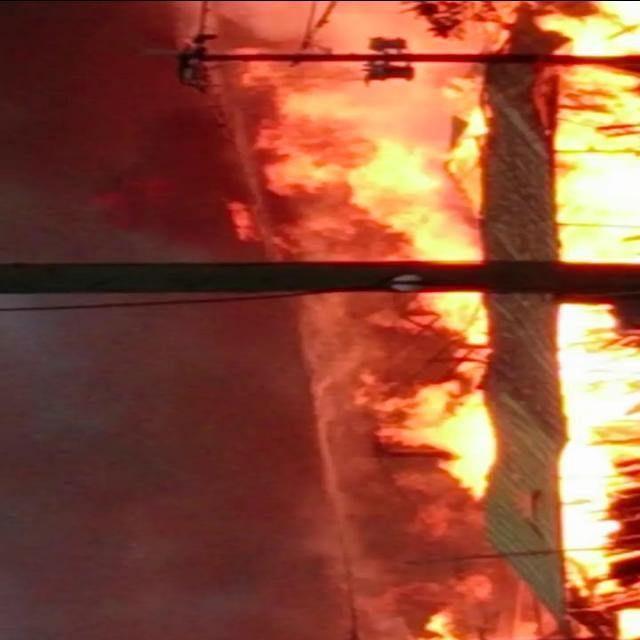Fire: (188, 0, 486, 258), (350, 288, 498, 502), (532, 3, 638, 263), (554, 302, 638, 598), (417, 614, 459, 638)
